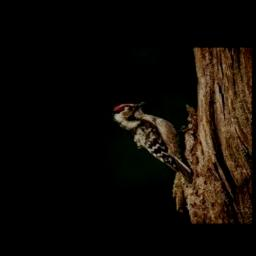Woodpecker: (111, 100, 192, 182)
